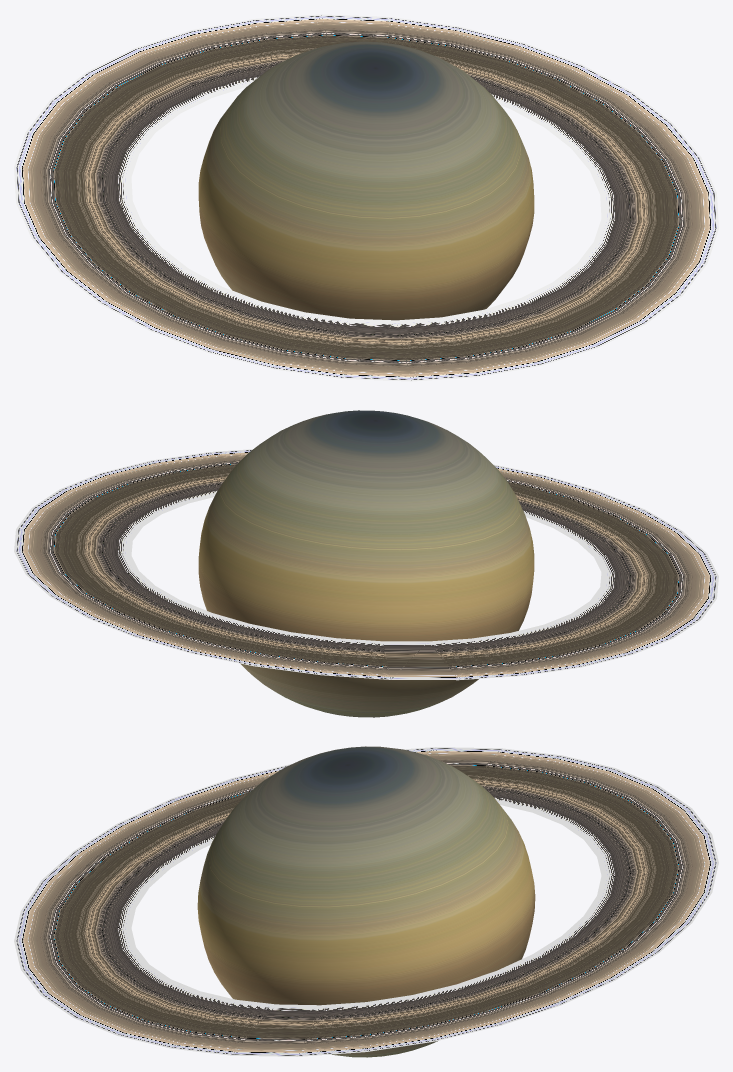
The model's file is saturn.obj.
3 renders of one model, top to bottom at view 1: azimuth 30°, elevation 25°; view 2: azimuth 150°, elevation 25°; view 3: azimuth 270°, elevation 25°, orthographic.
Visible parts, largest first — view 1: Saturn_Rings_Circle, Saturn_Planet_Sphere; view 2: Saturn_Planet_Sphere, Saturn_Rings_Circle; view 3: Saturn_Rings_Circle, Saturn_Planet_Sphere.
Boxes of the visible parts, x1,y1,x2,y2 form: Saturn_Rings_Circle: [14, 14, 718, 381]; Saturn_Planet_Sphere: [198, 41, 534, 320]; Saturn_Planet_Sphere: [198, 410, 534, 717]; Saturn_Rings_Circle: [14, 449, 718, 680]; Saturn_Rings_Circle: [14, 747, 718, 1056]; Saturn_Planet_Sphere: [197, 746, 535, 1057].
Bounding box in the file's own units: 4.2 × 1.8 × 4.17.
2 materials, 2 textured.
